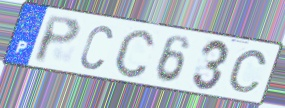3: (191, 38, 231, 93)
6: (154, 34, 192, 85)
C: (112, 27, 157, 80), (226, 48, 270, 94), (78, 23, 115, 71)
P: (32, 14, 83, 66)
